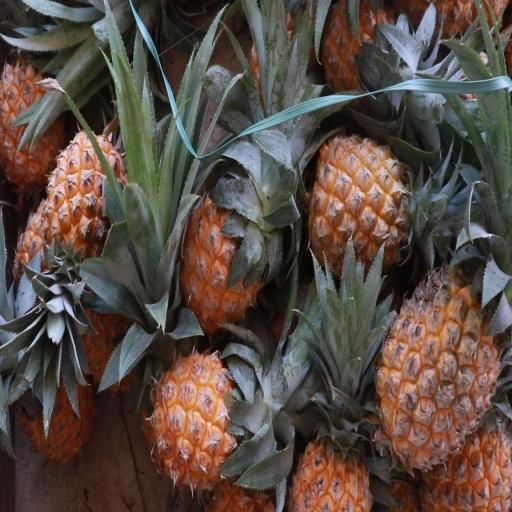Pineapple - v8 v1: (370, 239, 511, 479), (304, 126, 444, 292), (147, 343, 281, 498), (176, 161, 285, 332), (38, 124, 148, 290), (285, 366, 374, 512), (1, 44, 85, 196)
